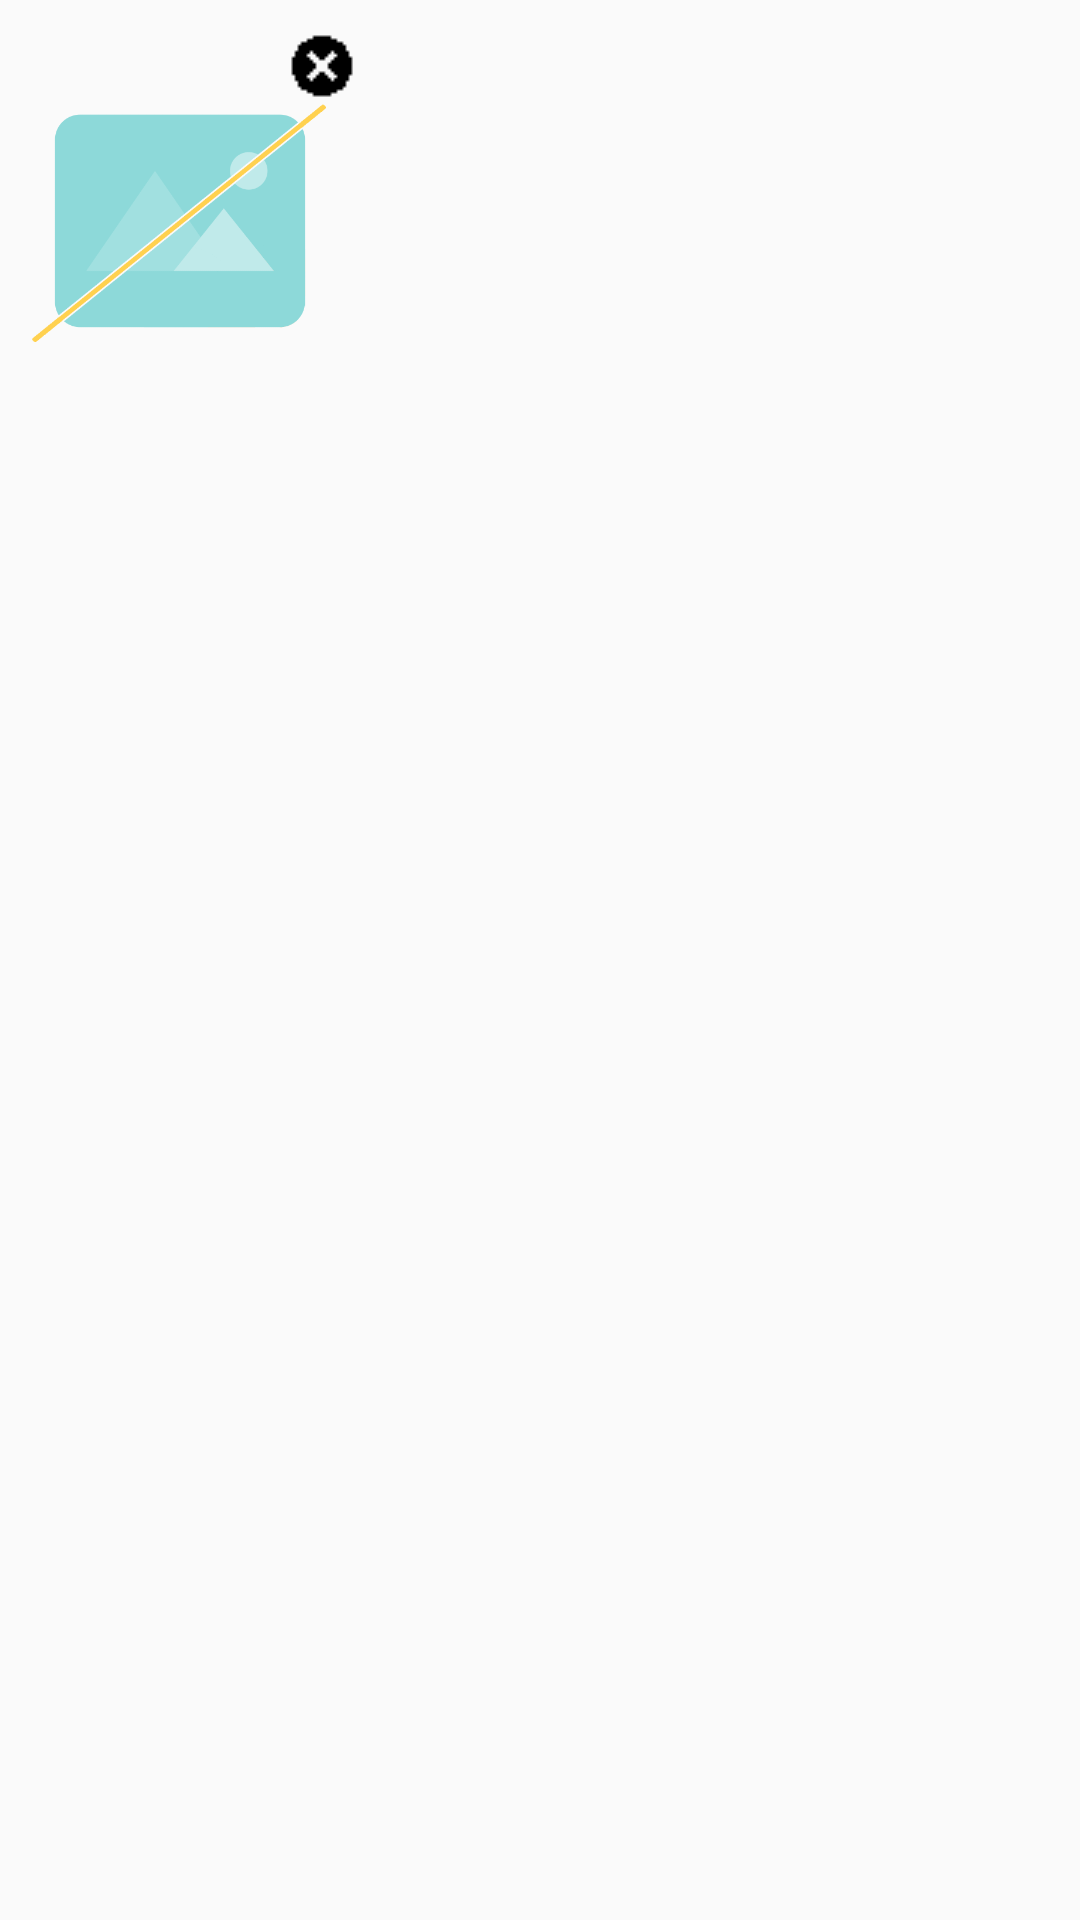

Named icons in this screenshot (1080 x 1920) and their bounding boxes, bbox(x1, y1, x2, y2):
close: bbox(291, 35, 353, 97)
noimage: bbox(32, 104, 326, 342)
